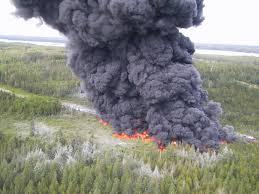fire: (109, 129, 165, 149), (95, 115, 109, 128)
yanwu: (7, 0, 243, 146)
